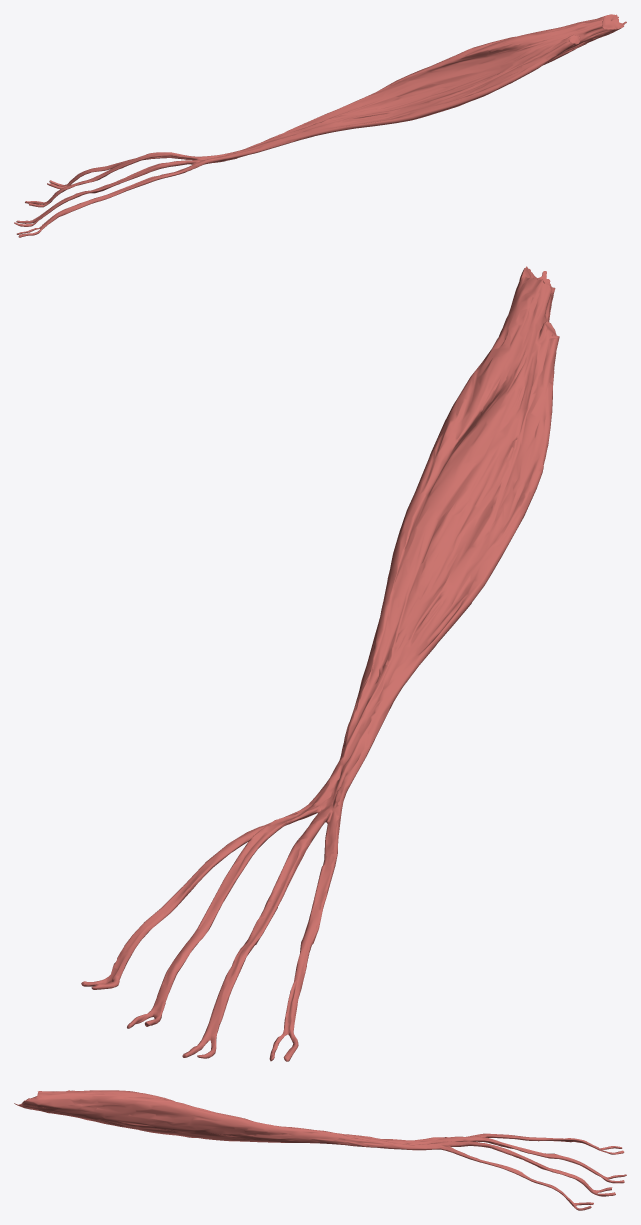
The picture shows the model from 3 angles, top to bottom: view 1: azimuth 90°, elevation 25°; view 2: azimuth 150°, elevation 25°; view 3: azimuth 270°, elevation 25°; orthographic projection. The views are drawn at different scales.
Parts seen in each view (by area): view 1: 右侧指浅屈肌肱尺头; view 2: 右侧指浅屈肌肱尺头; view 3: 右侧指浅屈肌肱尺头.
Boxes of the visible parts, box(x1,y1,x2,y2) form: 右侧指浅屈肌肱尺头: box(14, 14, 626, 237); 右侧指浅屈肌肱尺头: box(81, 266, 559, 1061); 右侧指浅屈肌肱尺头: box(14, 1090, 626, 1210).
Bounding box in the file's own units: 0.1945 × 0.1529 × 0.5742.
